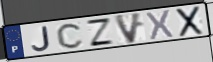C: (56, 22, 86, 50)
J: (31, 25, 53, 53)
V: (112, 11, 144, 45)
X: (175, 5, 205, 39), (145, 8, 175, 41)
Z: (84, 17, 116, 47)
